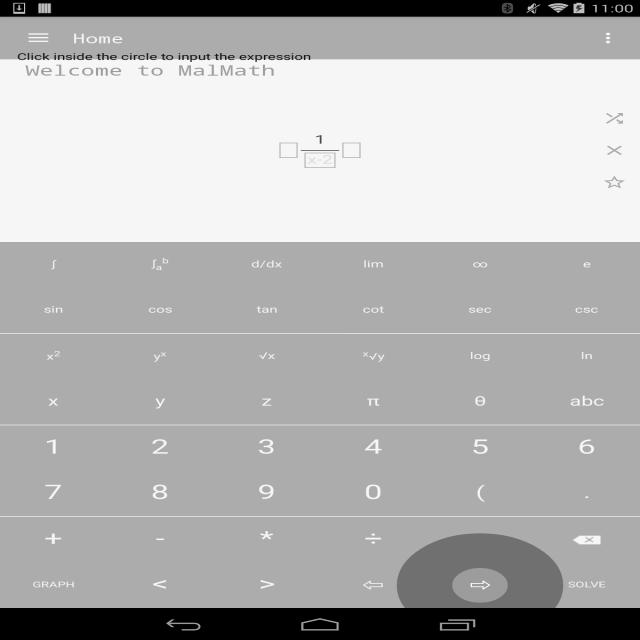Button: (0, 242, 107, 288), (213, 242, 320, 288), (320, 242, 427, 288), (533, 242, 640, 288), (0, 379, 107, 425), (213, 379, 320, 425), (320, 379, 427, 425), (533, 379, 640, 425), (0, 425, 107, 471), (213, 425, 320, 471), (320, 425, 427, 471), (533, 425, 640, 471), (0, 517, 107, 563), (213, 517, 320, 563), (320, 517, 427, 563), (107, 242, 213, 288), (427, 242, 533, 288), (107, 379, 213, 425), (427, 379, 533, 425), (107, 425, 213, 471), (427, 425, 533, 471), (107, 517, 213, 563), (427, 517, 533, 563), (0, 288, 107, 333), (213, 288, 320, 333), (320, 288, 427, 333), (533, 288, 640, 333), (0, 334, 107, 379), (213, 334, 320, 379), (320, 334, 427, 379), (533, 334, 640, 379), (0, 471, 107, 516), (213, 471, 320, 516), (320, 471, 427, 516), (533, 471, 640, 516), (0, 563, 107, 608), (213, 563, 320, 608), (320, 563, 427, 608), (533, 563, 640, 608), (107, 288, 213, 333), (427, 288, 533, 333), (107, 334, 213, 379), (427, 334, 533, 379), (107, 471, 213, 516), (427, 471, 533, 516), (107, 563, 213, 608), (427, 563, 533, 608)
EditText: (300, 131, 340, 150), (302, 151, 338, 170), (277, 141, 300, 160), (340, 141, 363, 160)
ImageButton: (9, 19, 68, 57), (589, 134, 640, 167), (589, 102, 640, 134), (589, 166, 640, 198)
ImageView: (533, 517, 640, 563), (589, 22, 631, 54)
TextView: (17, 50, 312, 65), (73, 29, 124, 47), (301, 150, 339, 151)
